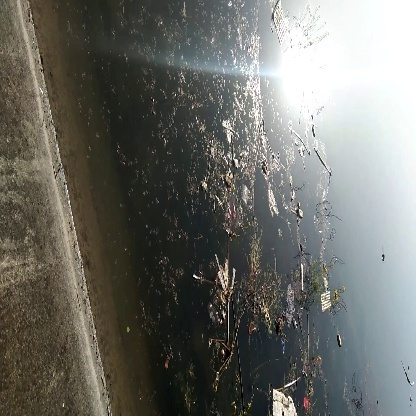branch: (312, 144, 341, 183)
